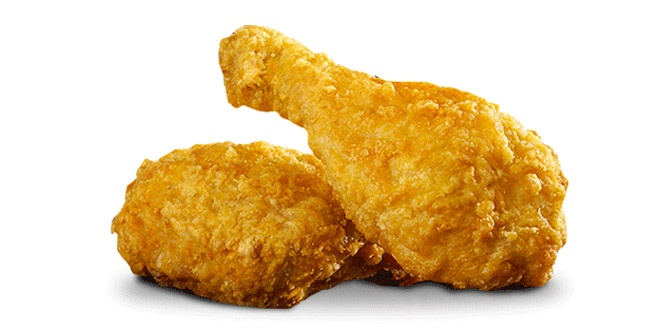ayam_goreng: (208, 17, 593, 297), (77, 129, 609, 314)
